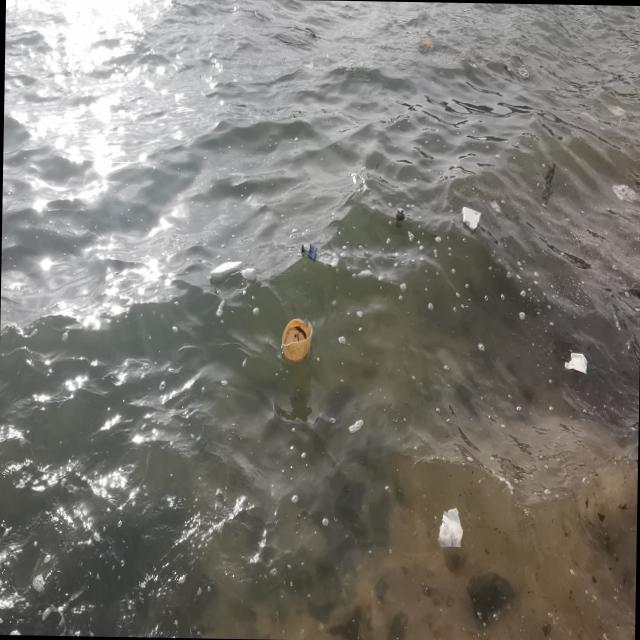can: (395, 207, 407, 229)
foam: (439, 508, 466, 546), (560, 348, 591, 378), (211, 260, 242, 283), (463, 207, 481, 231)
plastic bottle: (302, 243, 341, 270), (242, 270, 258, 283)
